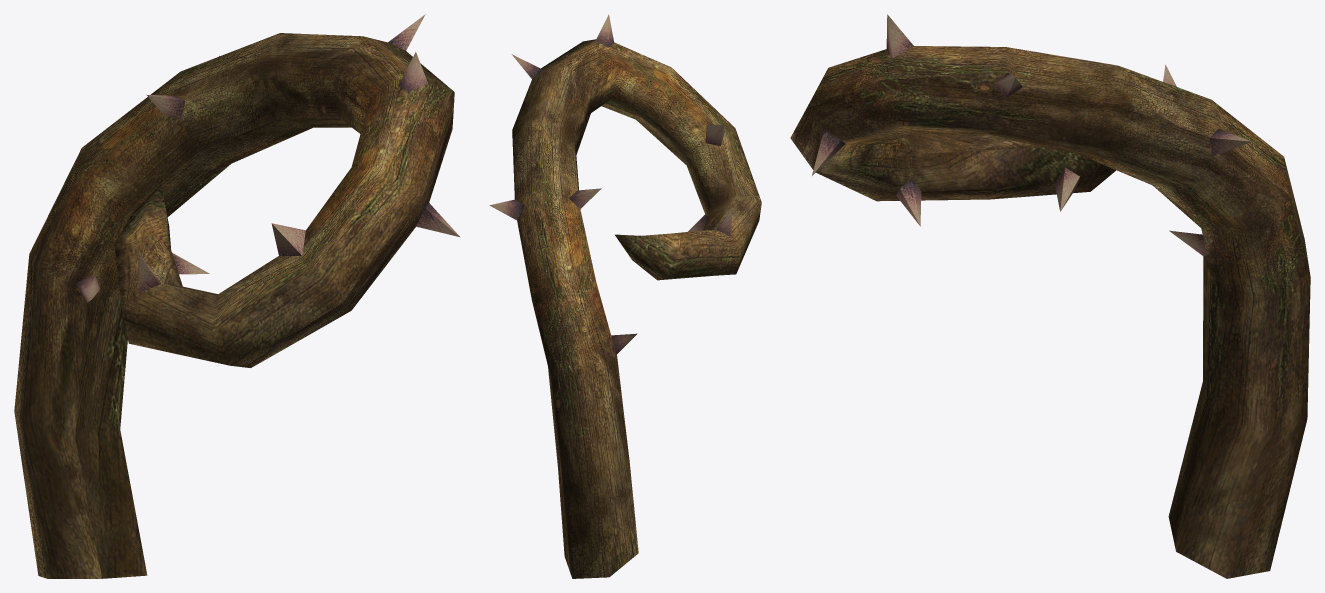
File: obj_mtthund_thorn03.fbx
3 renders of one model, left to right at view 1: azimuth 30°, elevation 25°; view 2: azimuth 150°, elevation 25°; view 3: azimuth 270°, elevation 25°, orthographic. The views are drawn at different scales.
Visible parts, largest first — view 1: obj_mtthund_thorn03; view 2: obj_mtthund_thorn03; view 3: obj_mtthund_thorn03.
Part boxes in pixels (left/top/right/bottom): obj_mtthund_thorn03: left=14, top=14, right=459, bottom=578; obj_mtthund_thorn03: left=489, top=14, right=761, bottom=578; obj_mtthund_thorn03: left=790, top=14, right=1310, bottom=578.
Bounding box in the file's own units: 5.63 × 10.72 × 8.08.
